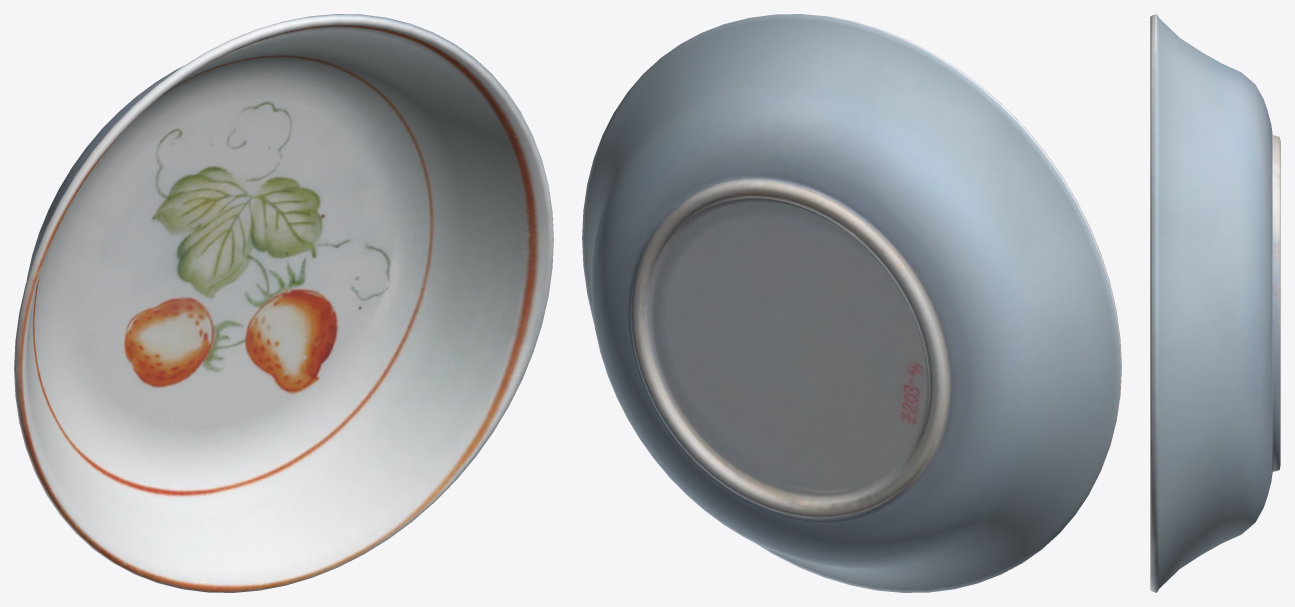
3 views of the same model, side by side, from view 1: azimuth 30°, elevation 25°; view 2: azimuth 150°, elevation 25°; view 3: azimuth 270°, elevation 25° (orthographic). The views are drawn at different scales.
Visible parts, largest first — view 1: SM_WhitePorcelainDish203_M_WhitePorcelainDish203_0; view 2: SM_WhitePorcelainDish203_M_WhitePorcelainDish203_0; view 3: SM_WhitePorcelainDish203_M_WhitePorcelainDish203_0.
Part boxes in pixels (x1,y1,x2,y2): SM_WhitePorcelainDish203_M_WhitePorcelainDish203_0: [14, 14, 553, 592]; SM_WhitePorcelainDish203_M_WhitePorcelainDish203_0: [582, 14, 1121, 592]; SM_WhitePorcelainDish203_M_WhitePorcelainDish203_0: [1150, 14, 1280, 592].
Bounding box in the file's own units: 6.52 × 6.52 × 1.46.
1 material, 1 textured.
